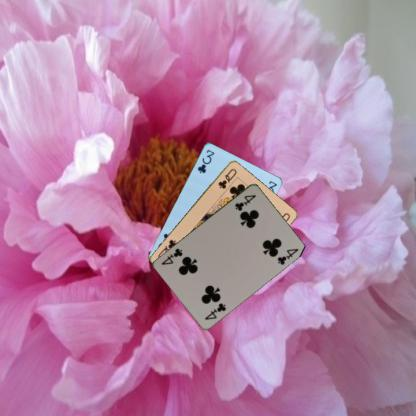3c: (194, 147, 216, 174)
4c: (202, 300, 228, 321), (232, 192, 258, 212)
Qc: (216, 166, 238, 189)
